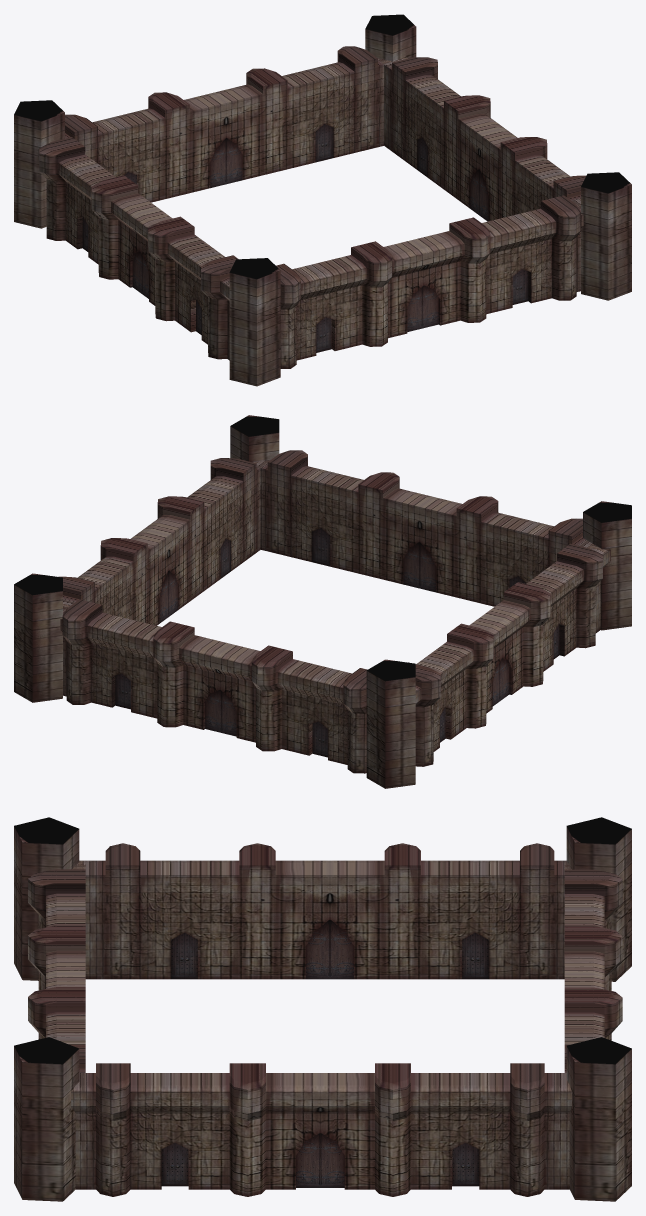
Rendered from castle_middle.fbx.
3 views of the same model, one above another, from view 1: azimuth 30°, elevation 25°; view 2: azimuth 150°, elevation 25°; view 3: azimuth 270°, elevation 25° (orthographic). The views are drawn at different scales.
Parts seen in each view (by area): view 1: castle; view 2: castle; view 3: castle.
Boxes of the visible parts, x1,y1,x2,y2 form: castle: (14, 14, 631, 386); castle: (14, 415, 631, 788); castle: (14, 817, 631, 1201).
Size of the model in its own units: 13.48 by 3.5 by 14.26.
